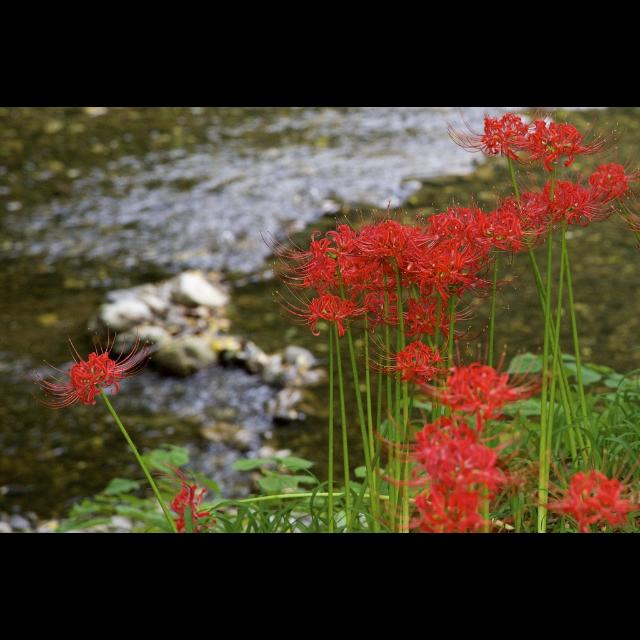Flower: (260, 108, 640, 388), (368, 359, 638, 533), (24, 331, 152, 413), (146, 460, 214, 532)
